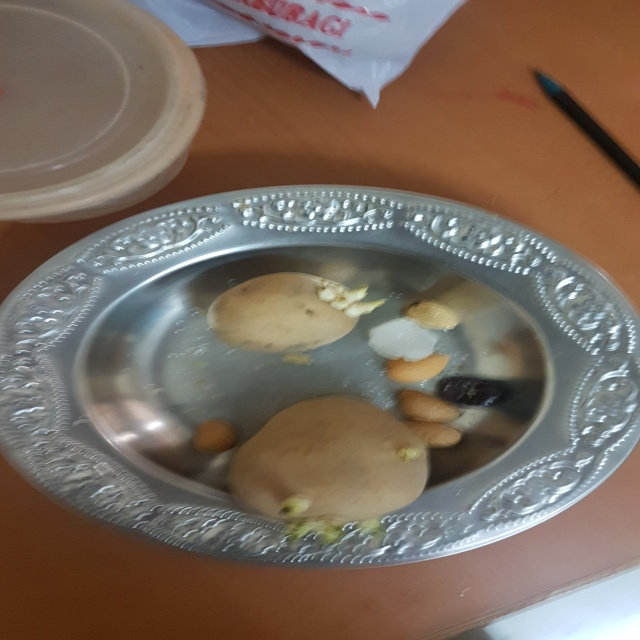potato: (223, 390, 438, 545), (207, 263, 377, 362)
